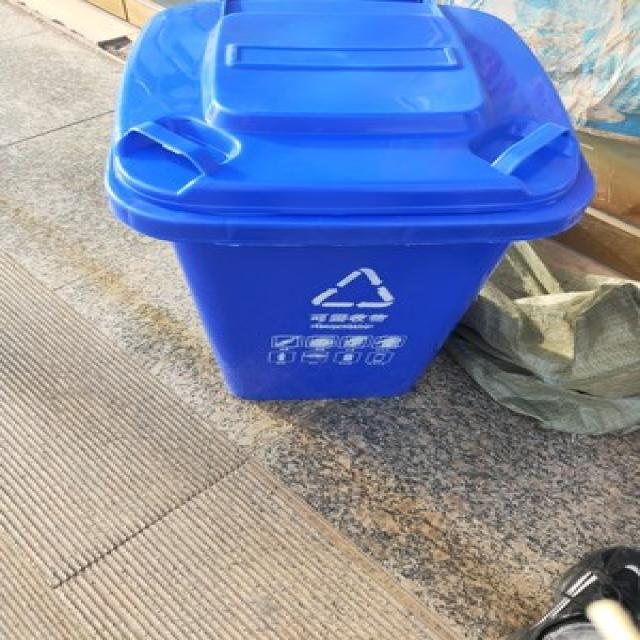ash bin: (102, 0, 596, 397)
